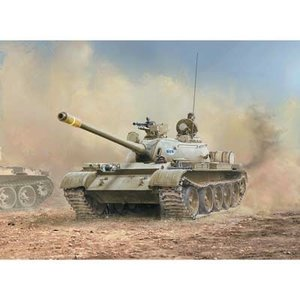Battle Tank: (57, 111, 255, 216)
